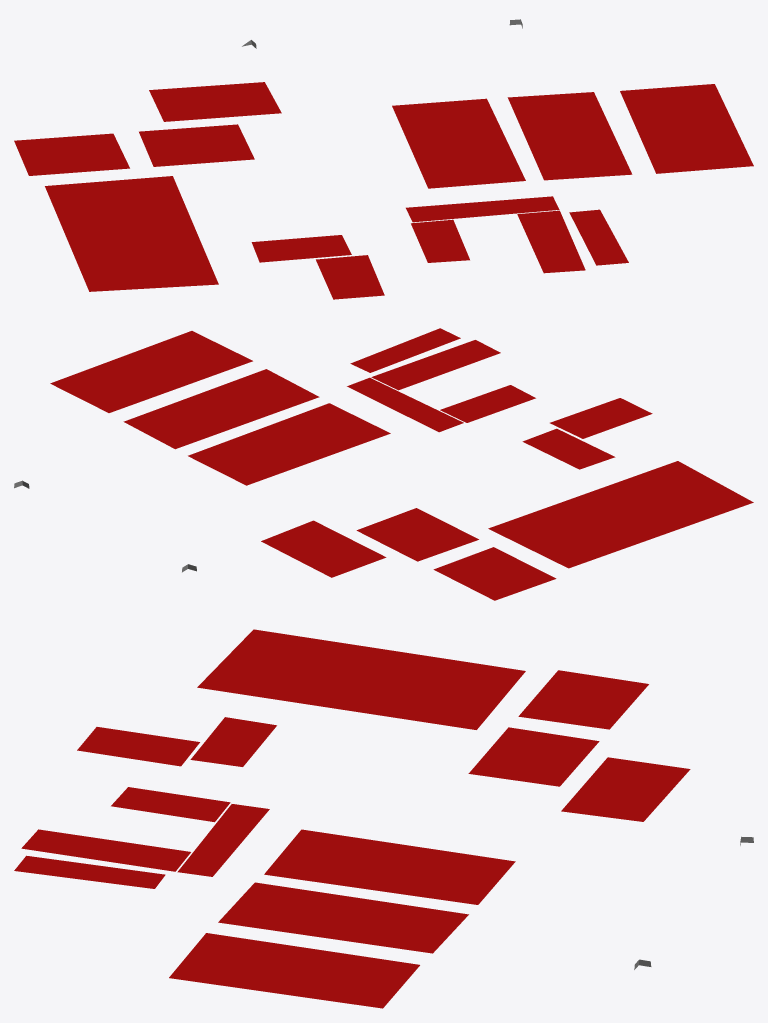
The picture shows the model from 3 angles, top to bottom: view 1: azimuth 30°, elevation 25°; view 2: azimuth 150°, elevation 25°; view 3: azimuth 270°, elevation 25°; orthographic projection. The views are drawn at different scales.
Size of the model in its own units: 340 by 5 by 281.
